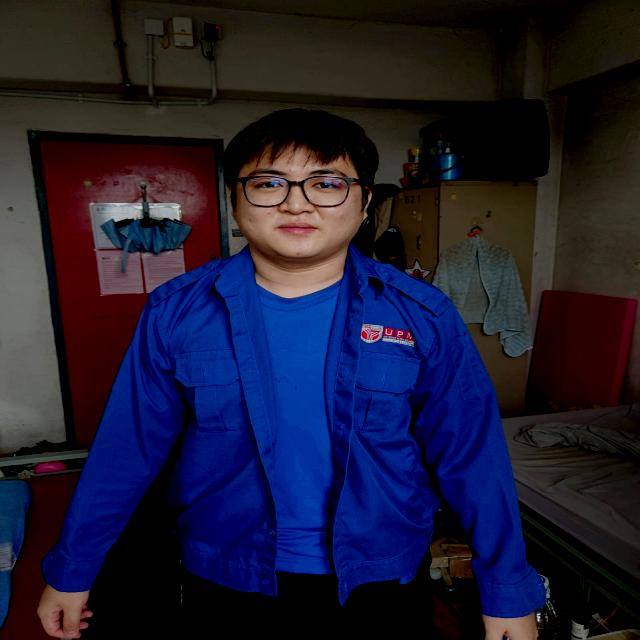person_with_labcoat: (39, 109, 541, 640)
